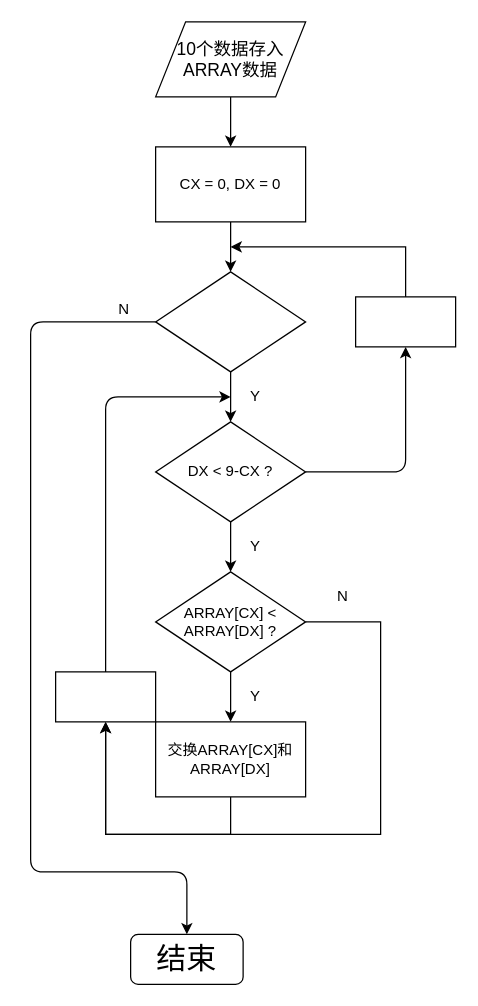
Image size: 478x1006. Some labels were removed from this diagram. Here are the shapes that lost their labels. From the top down, the box of each, then its label:
(154, 271, 306, 372): CX < 9?
(354, 296, 456, 347): CX++
(54, 671, 156, 722): DX++
